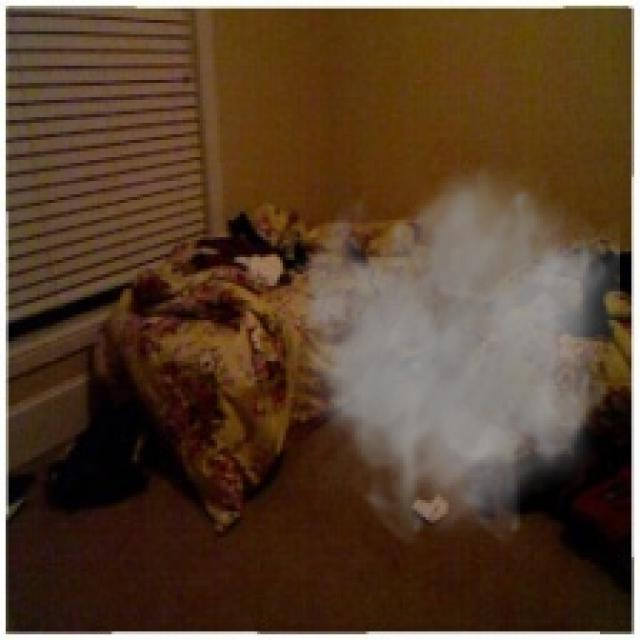smoke: (271, 157, 620, 549)
